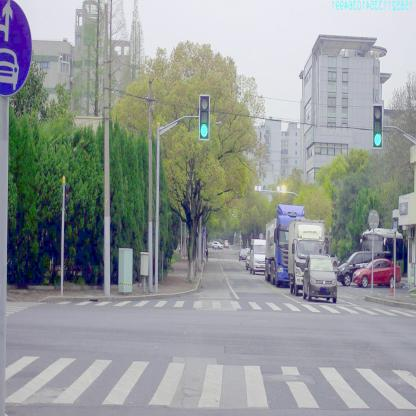traffic-light: (199, 95, 209, 139), (373, 104, 383, 147)
